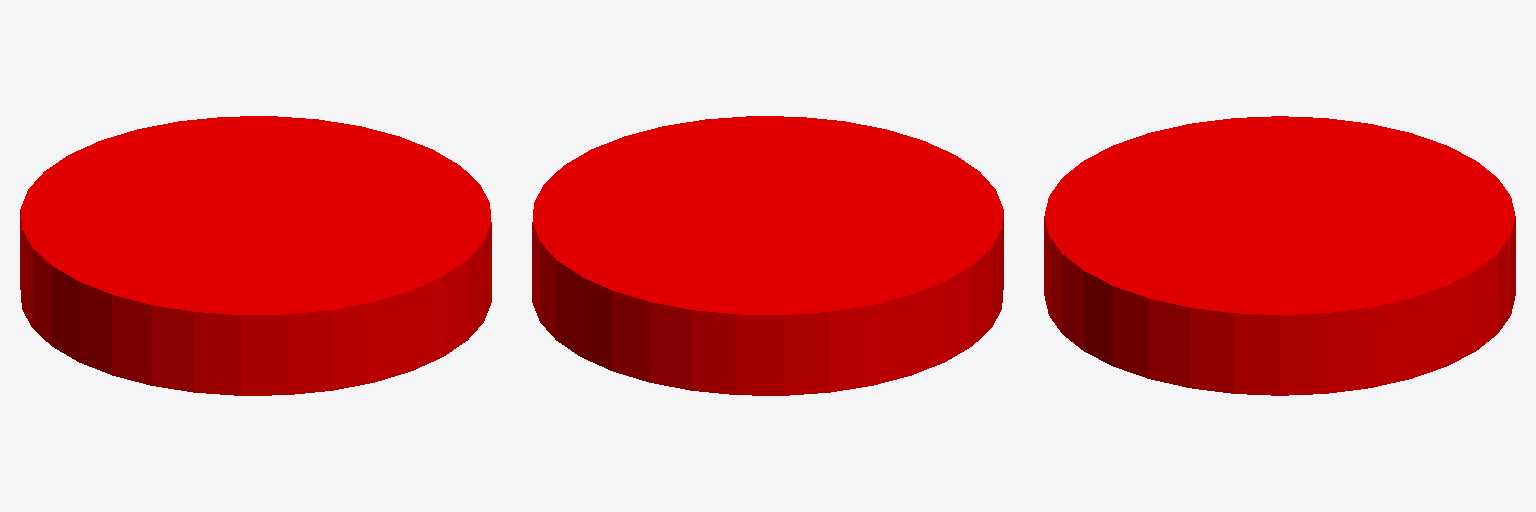
robot.urdf — disco:
<?xml version="1.0"?>
<robot name="disco">

  <material name="red">
    <color rgba="1 0.0 0.0 1"/>
  </material>

  <material name="gris">
    <color rgba="0.8 0.8 0.702 1"/>
  </material>

  <material name="blue_sky">
    <color rgba="0 1 1 1"/>
  </material>

  <link name="contact_surface">
    <visual>
      <geometry>
        <cylinder length="0.17" radius="0.45"/>  <!--Por estetica he ocultado esta superficie, pero si existe como objeto de colision-->
      </geometry>
      <material name="red"/>
    </visual>
  </link>

</robot>

--- What the picture shows (computed from the rendered views, not written in the file) ---
The picture shows the robot from 3 angles, left to right: view 1: azimuth 30°, elevation 25°; view 2: azimuth 150°, elevation 25°; view 3: azimuth 270°, elevation 25°; orthographic projection.
Robot: disco — 1 links, 0 joints (none); root link contact_surface; default pose: every joint at zero.
Visible links, largest first — view 1: contact_surface; view 2: contact_surface; view 3: contact_surface.
Boxes of the visible links, left/top/right/bottom form: contact_surface: left=20, top=116, right=491, bottom=395; contact_surface: left=532, top=116, right=1003, bottom=395; contact_surface: left=1044, top=116, right=1515, bottom=395.
Bounding box of the posed robot: 0.9 × 0.9 × 0.17 m (x, y, z).
Geometry: primitives only (box / cylinder / sphere), no mesh files.